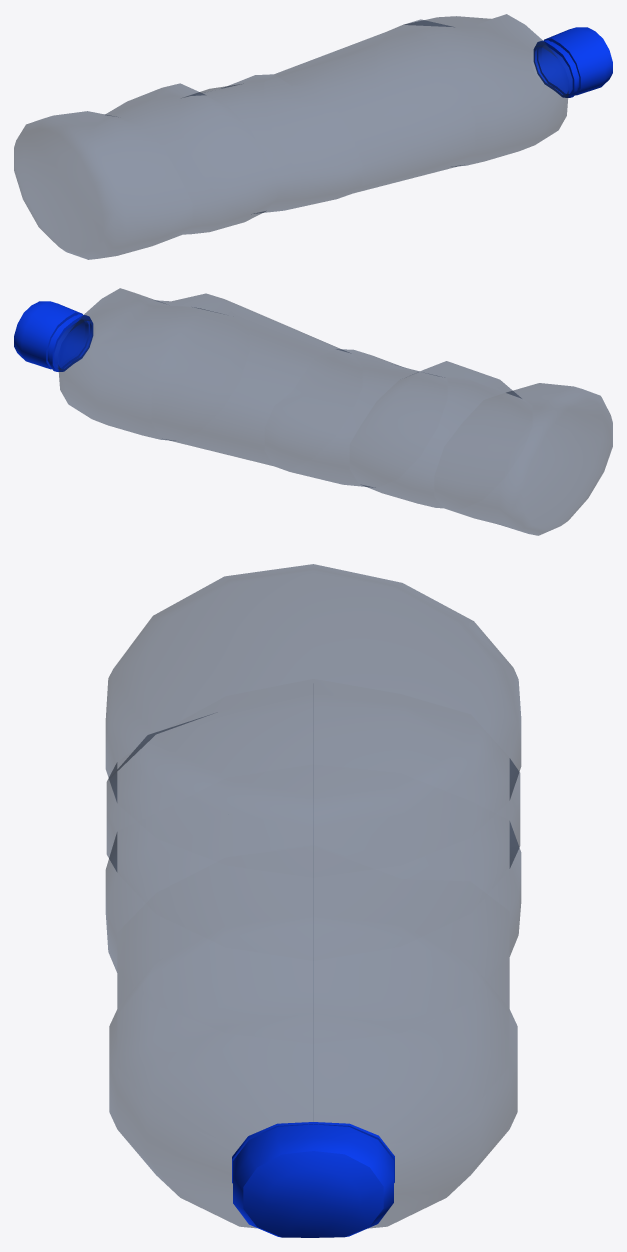
The model's file is SM_MCGarbages_Mesh02.FBX.
The picture shows the model from 3 angles, top to bottom: view 1: azimuth 30°, elevation 25°; view 2: azimuth 150°, elevation 25°; view 3: azimuth 270°, elevation 25°; orthographic projection. The views are drawn at different scales.
Visible parts, largest first — view 1: SM_MCGarbages_Mesh02; view 2: SM_MCGarbages_Mesh02; view 3: SM_MCGarbages_Mesh02.
Part boxes in pixels (x1,y1,x2,y2): SM_MCGarbages_Mesh02: (14, 14, 612, 259); SM_MCGarbages_Mesh02: (14, 288, 612, 535); SM_MCGarbages_Mesh02: (105, 564, 521, 1237).
Size of what is drawn, in the model's own units: 36.73 by 12.22 by 8.48.
